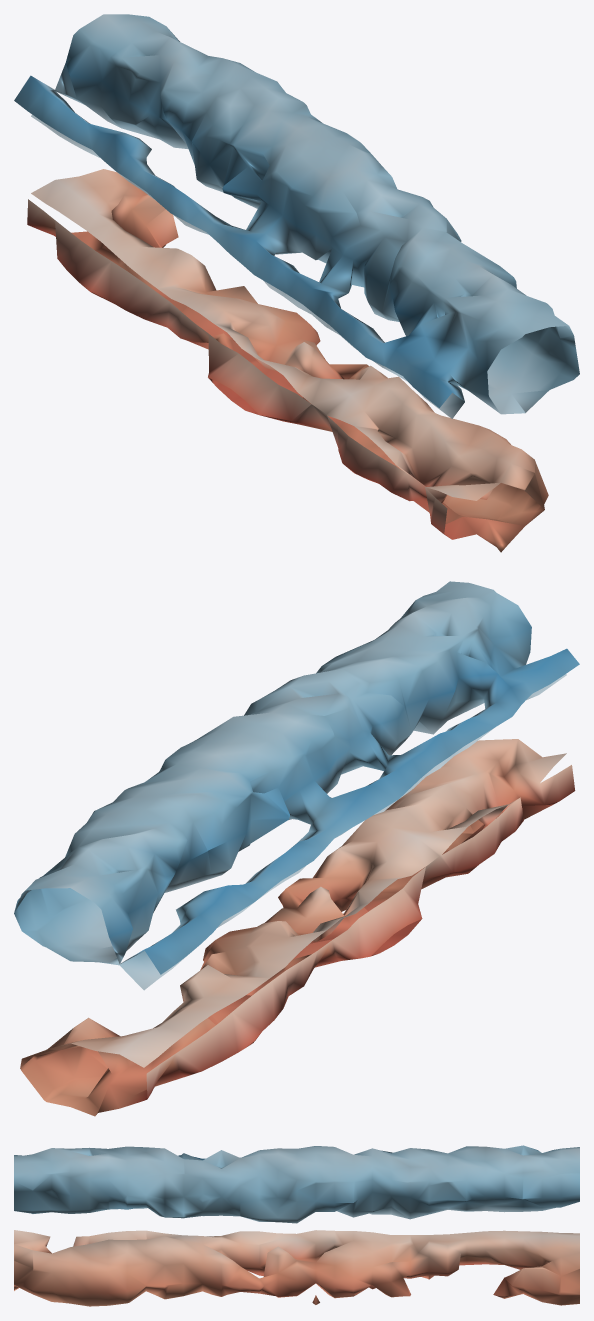
The picture shows the model from 3 angles, top to bottom: view 1: azimuth 30°, elevation 25°; view 2: azimuth 150°, elevation 25°; view 3: azimuth 270°, elevation 25°; orthographic projection. The views are drawn at different scales.
Size of the model in its own units: 0.6261 by 0.7653 by 2.5.
